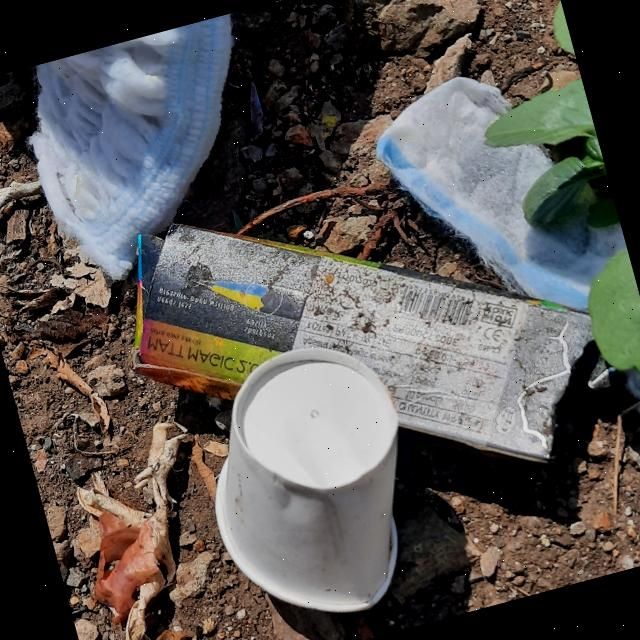trash: (102, 122, 630, 560), (362, 43, 640, 354), (11, 10, 300, 294)
